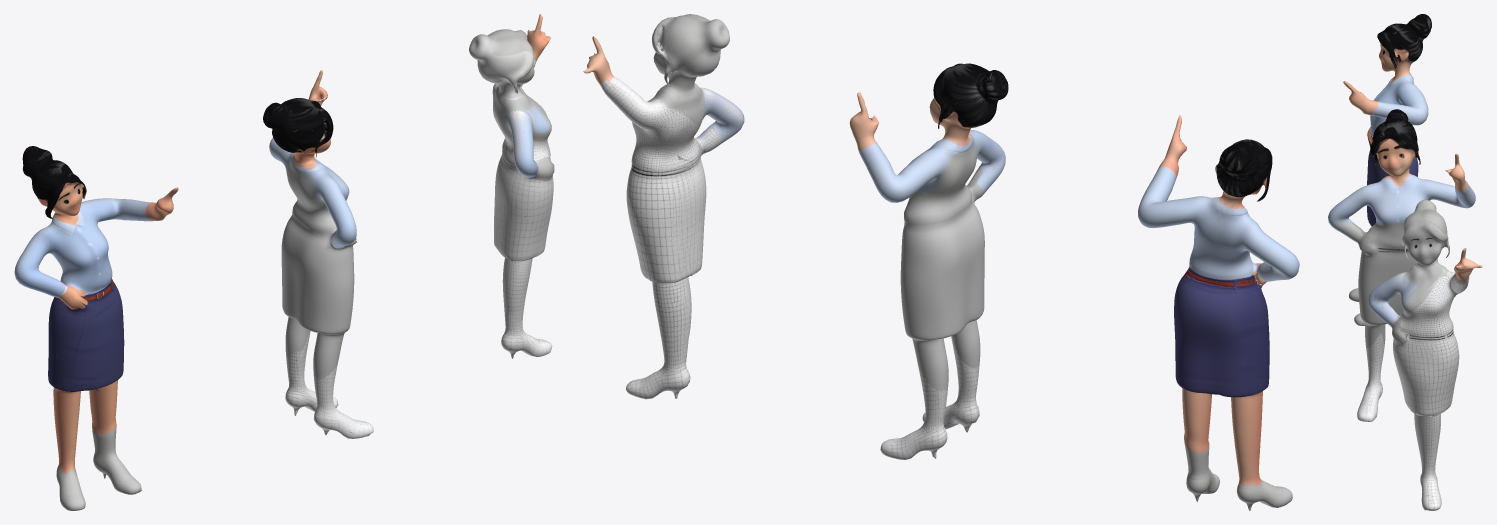
The model's file is chica_ejecutiva.glb.
3 views of the same model, side by side, from view 1: azimuth 30°, elevation 25°; view 2: azimuth 150°, elevation 25°; view 3: azimuth 270°, elevation 25° (orthographic). The views are drawn at different scales.
Visible parts, largest first — view 1: Mesh_0; view 2: Mesh_0; view 3: Mesh_0.
Boxes of the visible parts, x1,y1,x2,y2 form: Mesh_0: (14,14,554,510); Mesh_0: (583,14,1299,510); Mesh_0: (1328,14,1482,510).
Bounding box in the file's own units: 1.91 × 1.07 × 0.5301.
Materials: 1 (1 with a texture image).
